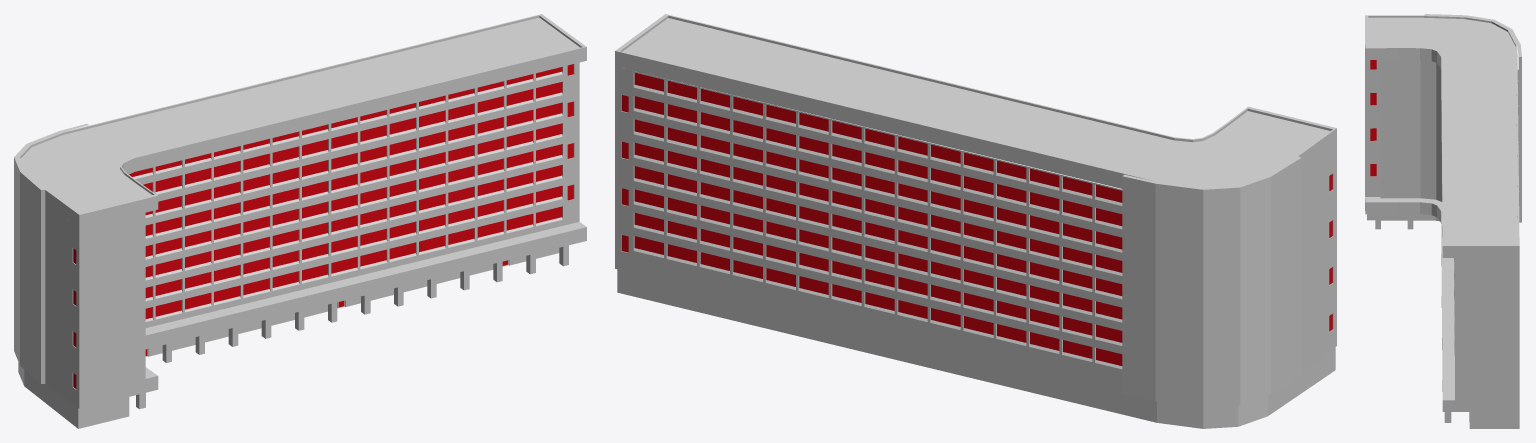
The model's file is SM_infrastructure_buildings_02.glb.
The picture shows the model from 3 angles, left to right: view 1: azimuth 30°, elevation 25°; view 2: azimuth 150°, elevation 25°; view 3: azimuth 270°, elevation 25°; orthographic projection. The views are drawn at different scales.
Parts seen in each view (by area): view 1: infrastructure_buildings_02; view 2: infrastructure_buildings_02; view 3: infrastructure_buildings_02.
Part boxes in pixels (x1,y1,x2,y2): infrastructure_buildings_02: (14,14,586,428); infrastructure_buildings_02: (615,14,1336,428); infrastructure_buildings_02: (1365,14,1521,428).
Size of the model in its own units: 84 by 31 by 24.
